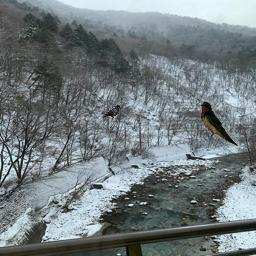Crow: (104, 105, 121, 124)
Swallow: (200, 100, 239, 146)
